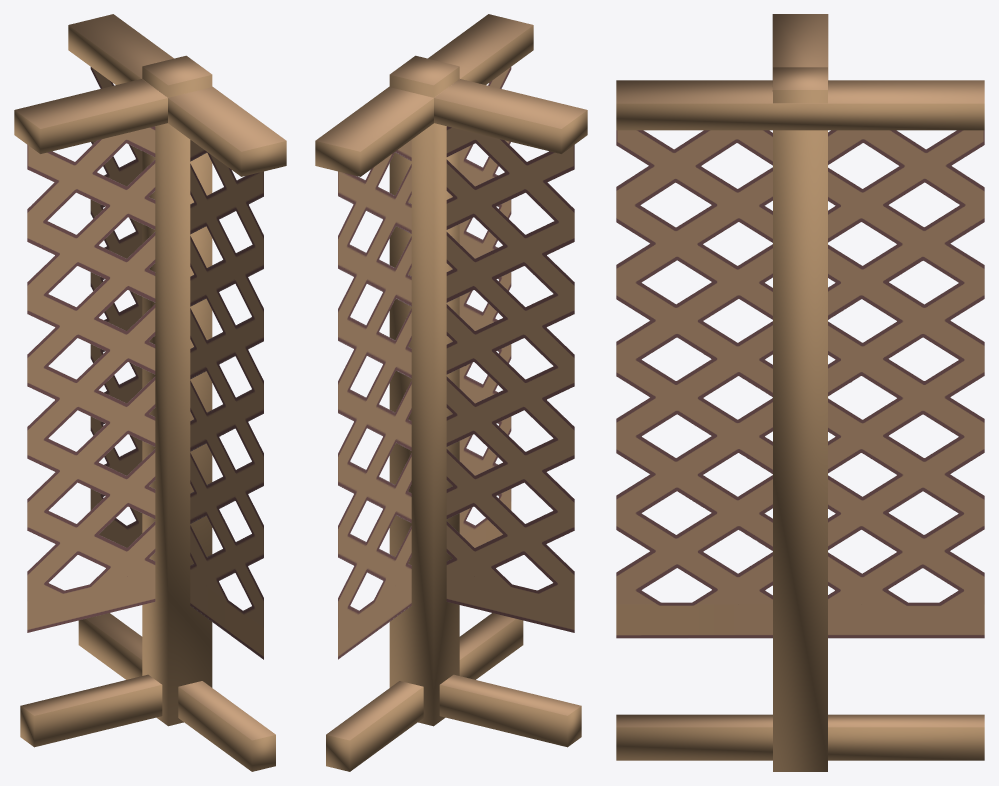
File: Fence_RF_20008_05_SM.fbx
3 renders of one model, left to right at view 1: azimuth 30°, elevation 25°; view 2: azimuth 150°, elevation 25°; view 3: azimuth 270°, elevation 25°, orthographic. The views are drawn at different scales.
Visible parts, largest first — view 1: Fence_RF_20008_05_P, Fence_RF_20008_05; view 2: Fence_RF_20008_05_P, Fence_RF_20008_05; view 3: Fence_RF_20008_05_P, Fence_RF_20008_05.
Boxes of the visible parts, left/top/right/bottom form: Fence_RF_20008_05_P: left=27, top=67, right=263, bottom=659; Fence_RF_20008_05: left=14, top=14, right=286, bottom=771; Fence_RF_20008_05_P: left=338, top=67, right=574, bottom=659; Fence_RF_20008_05: left=315, top=14, right=587, bottom=771; Fence_RF_20008_05_P: left=616, top=130, right=984, bottom=638; Fence_RF_20008_05: left=616, top=14, right=984, bottom=771.
Size of the model in its own units: 57.54 by 204 by 99.97.
Materials: 1 (1 with a texture image).
